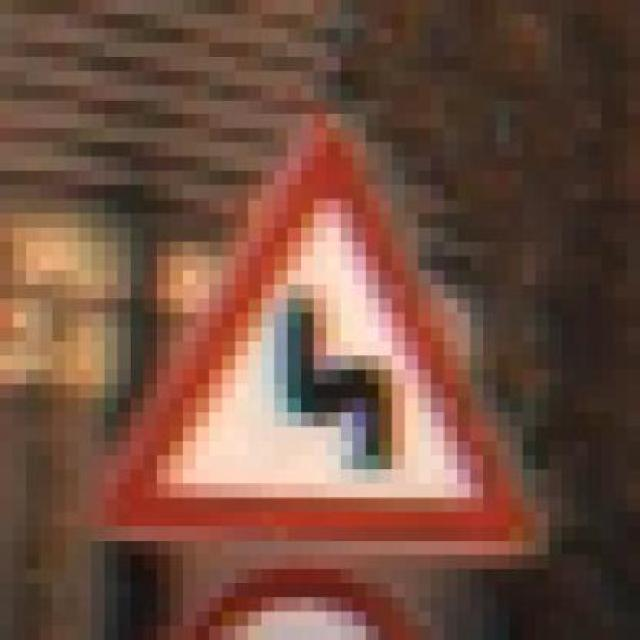Left Zig Zag Traffic: (66, 86, 548, 554)
